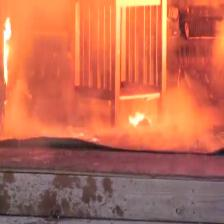fire: (4, 22, 14, 89)
smoke: (23, 2, 71, 131), (165, 94, 206, 138)
